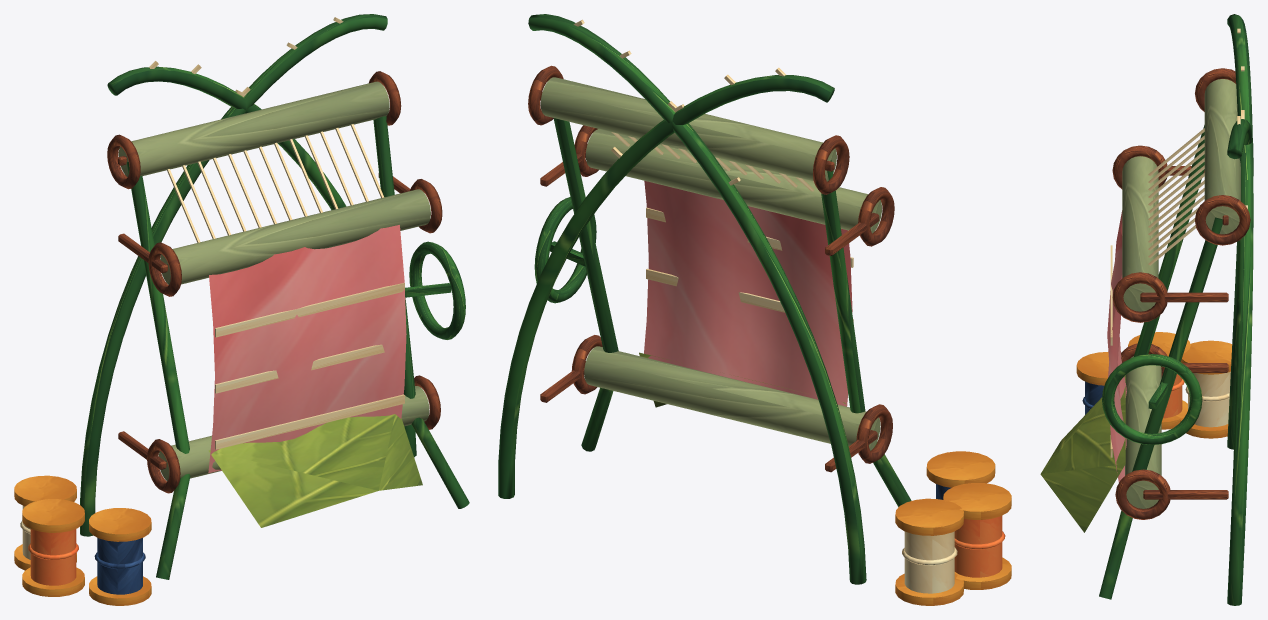
File: revised-07-06.glb
3 views of the same model, side by side, from view 1: azimuth 30°, elevation 25°; view 2: azimuth 150°, elevation 25°; view 3: azimuth 270°, elevation 25° (orthographic). The views are drawn at different scales.
Parts seen in each view (by area): view 1: sundial_loom; view 2: sundial_loom; view 3: sundial_loom.
Part boxes in pixels (x1=…): sundial_loom: x1=14, y1=14, x2=469, y2=605; sundial_loom: x1=498, y1=14, x2=1011, y2=605; sundial_loom: x1=1040, y1=14, x2=1253, y2=605.
Size of the model in its own units: 1.67 by 1.72 by 0.7247.
1 material, 1 textured.
